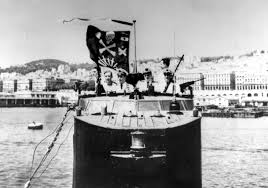Jolly Roger Flag: (79, 25, 135, 70)
